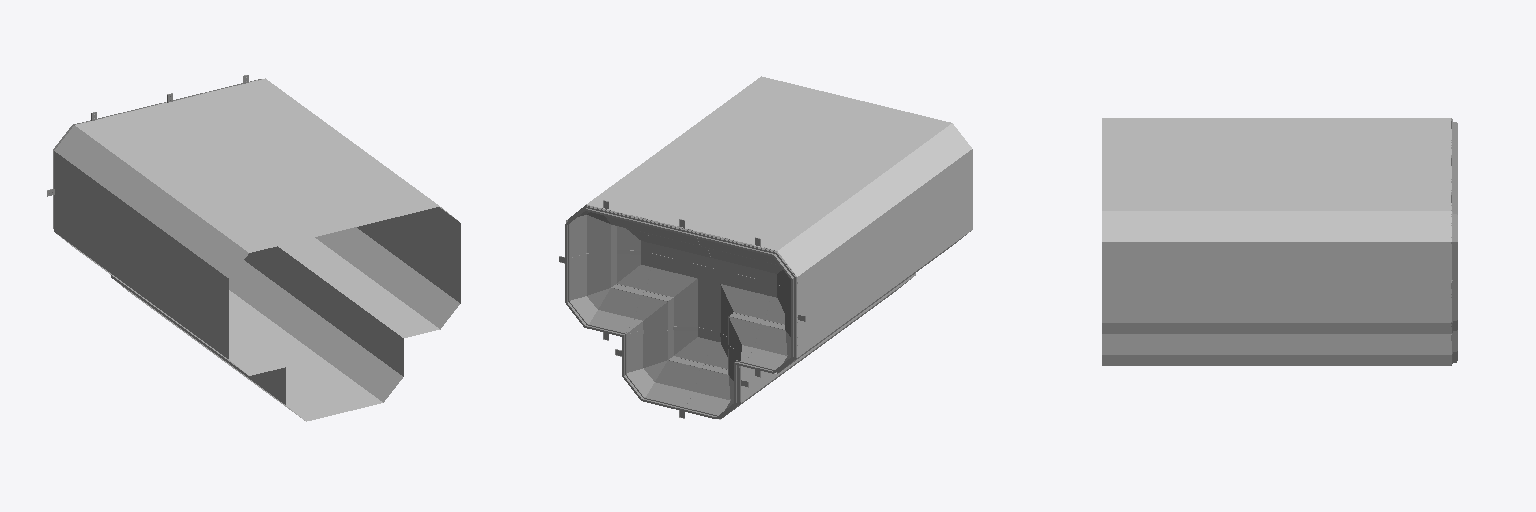
Rendered from aucman_skylight_01.obj.
3 renders of one model, left to right at view 1: azimuth 30°, elevation 25°; view 2: azimuth 150°, elevation 25°; view 3: azimuth 270°, elevation 25°, orthographic.
Parts seen in each view (by area): view 1: c_playerblocker; view 2: c_playerblocker, g_g, g_glass_10_crk, g_glass_02_crk, g_glass_01_crk, g_glass_04_crk, g_glass_09_crk, g_glass_03_crk, g_glass_05_crk, g_glass_08_crk, g_glass_07_crk; view 3: c_playerblocker, g_g.
Part boxes in pixels (left/top/right/bottom): c_playerblocker: left=54, top=78, right=460, bottom=421; c_playerblocker: left=587, top=76, right=972, bottom=419; g_g: left=559, top=200, right=805, bottom=418; g_glass_10_crk: left=570, top=254, right=646, bottom=331; g_glass_02_crk: left=627, top=331, right=706, bottom=405; g_glass_01_crk: left=627, top=257, right=706, bottom=333; g_glass_04_crk: left=711, top=273, right=766, bottom=360; g_glass_09_crk: left=567, top=205, right=645, bottom=256; g_glass_03_crk: left=686, top=340, right=740, bottom=414; g_glass_05_crk: left=748, top=288, right=796, bottom=372; g_glass_08_crk: left=625, top=214, right=706, bottom=264; g_glass_07_crk: left=689, top=230, right=766, bottom=280; c_playerblocker: left=1102, top=118, right=1451, bottom=365; g_g: left=1451, top=118, right=1457, bottom=365.
Bounding box in the file's own units: 1300 × 1000 × 1625.